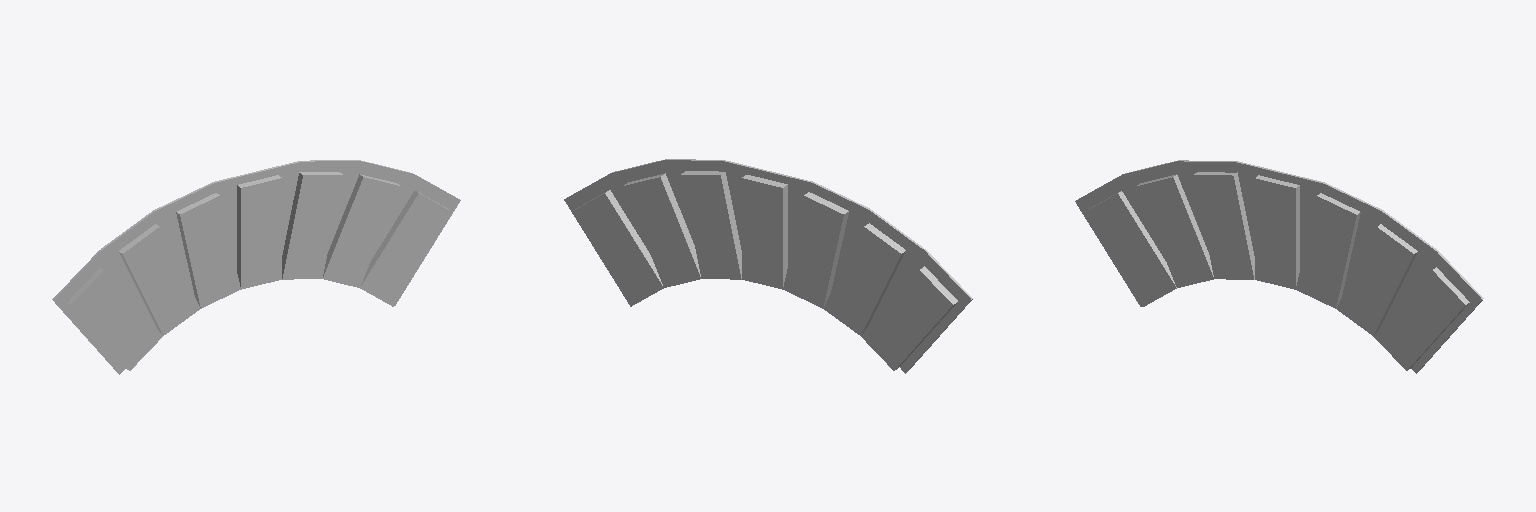
File: lime_mortar_orange_clay_brick_facade_segmental_arch_1.obj
The picture shows the model from 3 angles: view 1: azimuth 30°, elevation 25°; view 2: azimuth 150°, elevation 25°; view 3: azimuth 330°, elevation 25°; orthographic projection.
Visible parts, largest first — view 1: brick, brick.002, brick.000, brick.001, brick.003, brick.005, brick.004, cube.005, cube.002, cube.003, cube.000, cube.004 (+2 smaller); view 2: brick, brick.002, brick.000, brick.001, brick.003, brick.005, brick.004, cube.002, cube.004, cube.005, cube.003, cube (+2 smaller); view 3: brick.005, brick.003, brick.004, brick.001, brick.002, brick, brick.000, cube.002, cube.000, cube, cube.005, cube.001 (+2 smaller).
Part boxes in pixels (x1,y1,x2,y2): brick: (360, 191, 451, 306); brick.002: (282, 172, 342, 279); brick.000: (323, 174, 400, 287); brick.001: (237, 175, 281, 289); brick.003: (176, 193, 240, 308); brick.005: (67, 267, 162, 370); brick.004: (119, 224, 200, 335); cube.005: (52, 250, 156, 374); cube.002: (212, 161, 301, 268); cube.003: (155, 183, 215, 295); cube.000: (328, 160, 413, 259); cube.004: (101, 210, 158, 291); brick: (572, 190, 663, 306); brick.002: (681, 171, 741, 279); brick.000: (623, 173, 700, 287); brick.001: (742, 175, 787, 289); brick.003: (783, 192, 848, 308); brick.005: (861, 266, 957, 370); brick.004: (823, 223, 905, 335); cube.002: (723, 160, 812, 264); cube.004: (831, 209, 923, 326); cube.005: (900, 249, 972, 373); cube.003: (811, 182, 869, 279); cube: (564, 173, 650, 303); brick.005: (1084, 191, 1176, 306); brick.003: (1193, 172, 1254, 279); brick.004: (1136, 174, 1213, 287); brick.001: (1255, 175, 1299, 289); brick.002: (1296, 193, 1360, 308); brick: (1373, 267, 1469, 370); brick.000: (1336, 224, 1417, 335); cube.002: (1235, 161, 1324, 268); cube.000: (1342, 210, 1436, 327); cube: (1411, 250, 1483, 373); cube.005: (1075, 174, 1165, 306); cube.001: (1322, 183, 1382, 283).
Bounding box in the file's own units: 1.55 × 0.6108 × 0.0695.